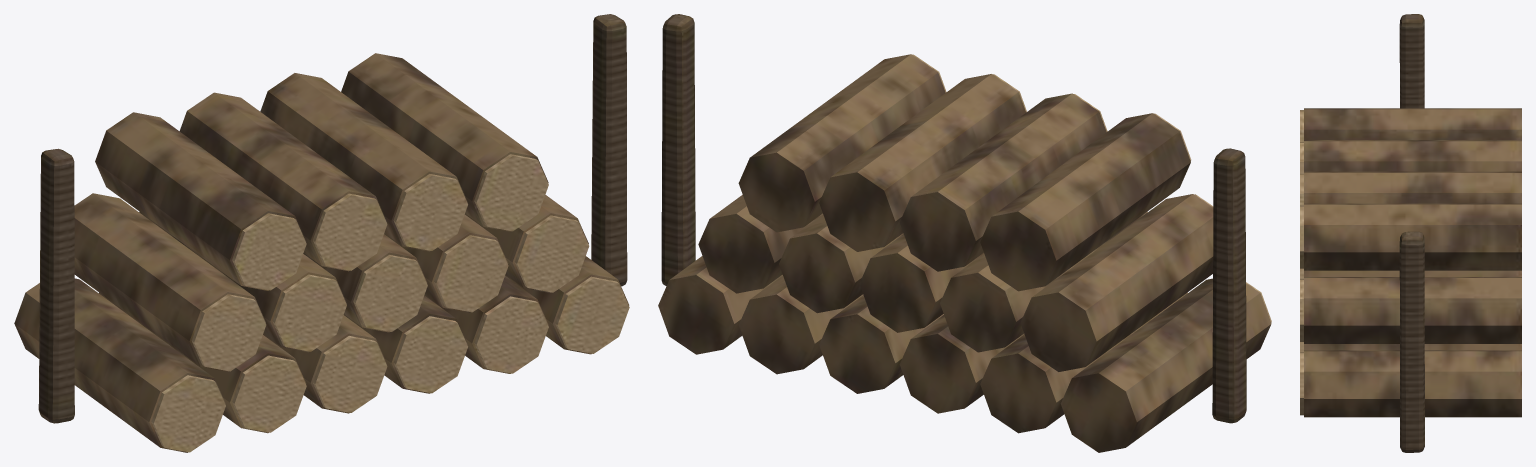
The model's file is firewood.glb.
3 views of the same model, side by side, from view 1: azimuth 30°, elevation 25°; view 2: azimuth 150°, elevation 25°; view 3: azimuth 270°, elevation 25° (orthographic). The views are drawn at different scales.
Parts seen in each view (by area): view 1: firewood; view 2: firewood; view 3: firewood.
Part boxes in pixels (left/top/right/bottom): firewood: left=14, top=14, right=629, bottom=452; firewood: left=658, top=14, right=1271, bottom=452; firewood: left=1300, top=14, right=1521, bottom=452.
Bounding box in the file's own units: 1.36 × 0.6017 × 0.56.
Materials: 1 (1 with a texture image).
